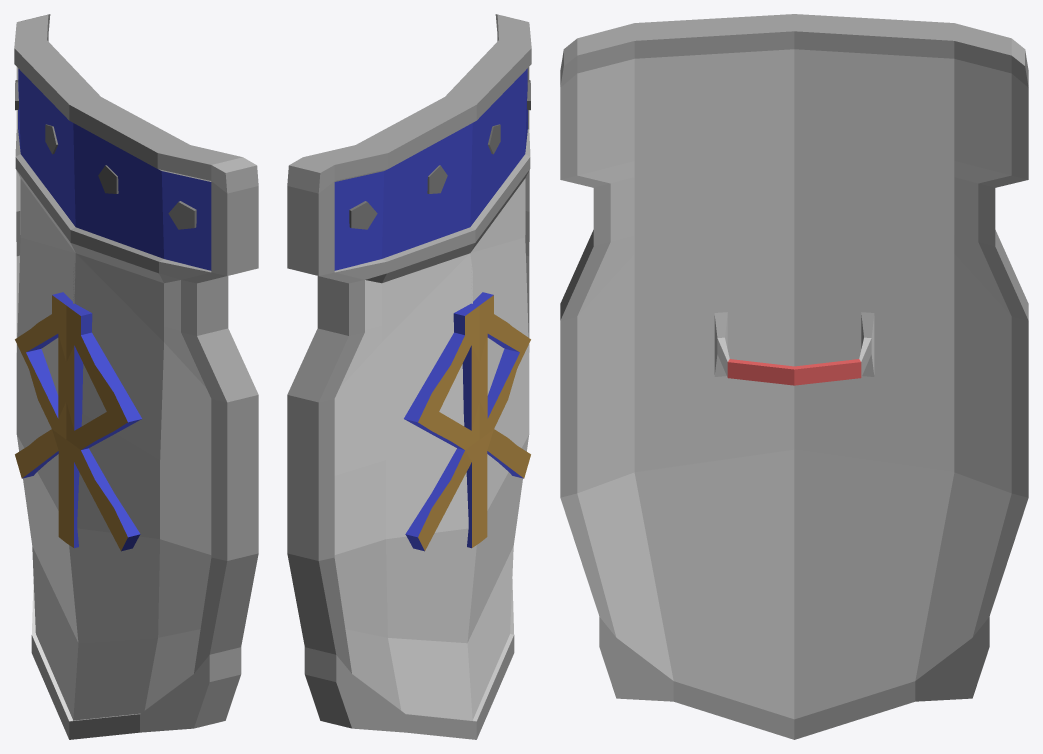
The model's file is ShieldPaladin.fbx.
3 renders of one model, left to right at view 1: azimuth 30°, elevation 25°; view 2: azimuth 150°, elevation 25°; view 3: azimuth 270°, elevation 25°, orthographic. The views are drawn at different scales.
Visible parts, largest first — view 1: ShieldPaladin; view 2: ShieldPaladin; view 3: ShieldPaladin.
Boxes of the visible parts, bbox=[...] form: ShieldPaladin: bbox=[14, 14, 258, 739]; ShieldPaladin: bbox=[287, 14, 531, 739]; ShieldPaladin: bbox=[560, 14, 1028, 739].
Bounding box in the file's own units: 28.01 × 165 × 98.53.
1 material, 1 textured.
